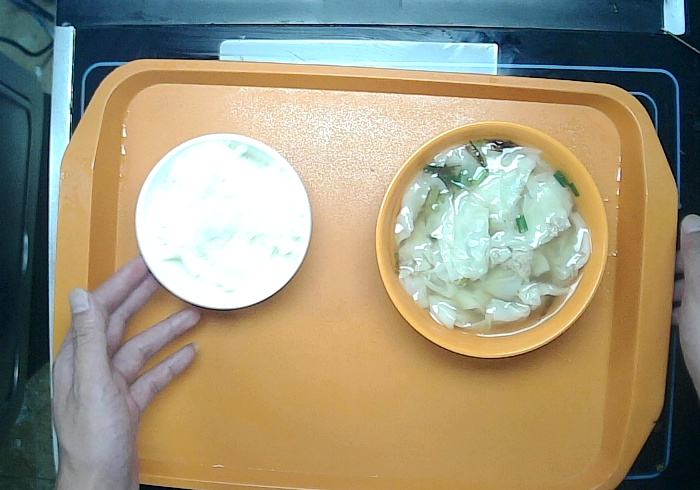NLDX-Fan_Wan: (132, 130, 314, 312)
NLDX-Hun_Tun_Wan: (373, 119, 609, 360)
